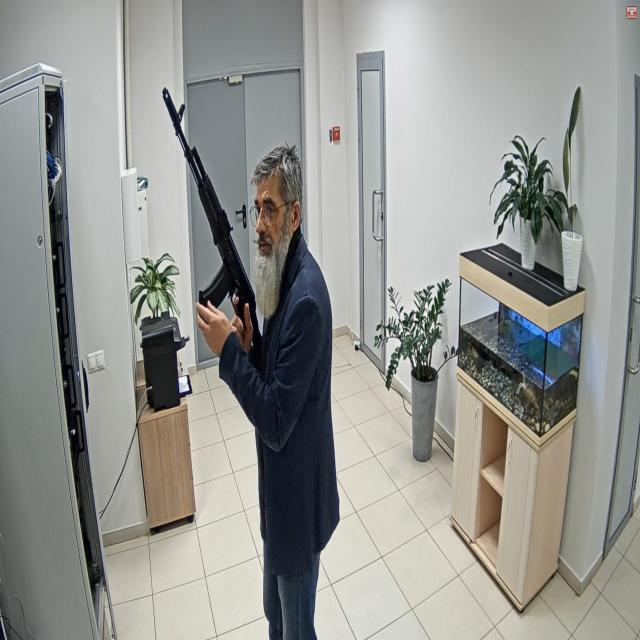-Gun: (161, 86, 262, 368)
